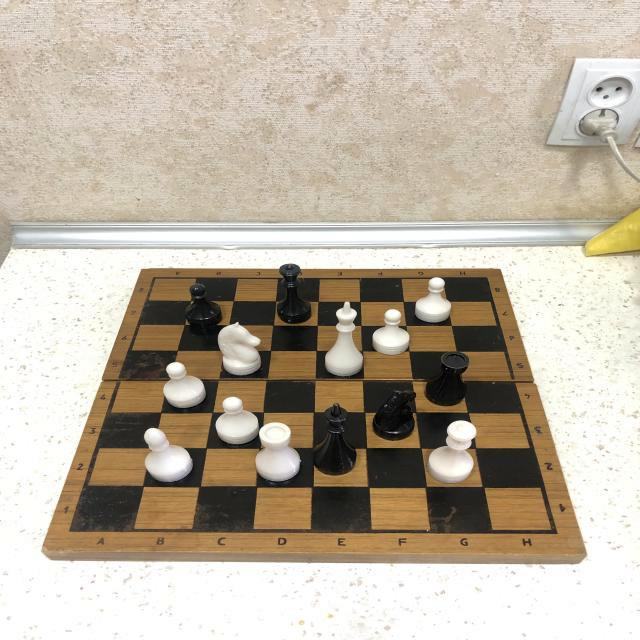chess-table-corners: (58, 518, 89, 543), (540, 520, 569, 542), (148, 273, 170, 287), (476, 272, 494, 286)
